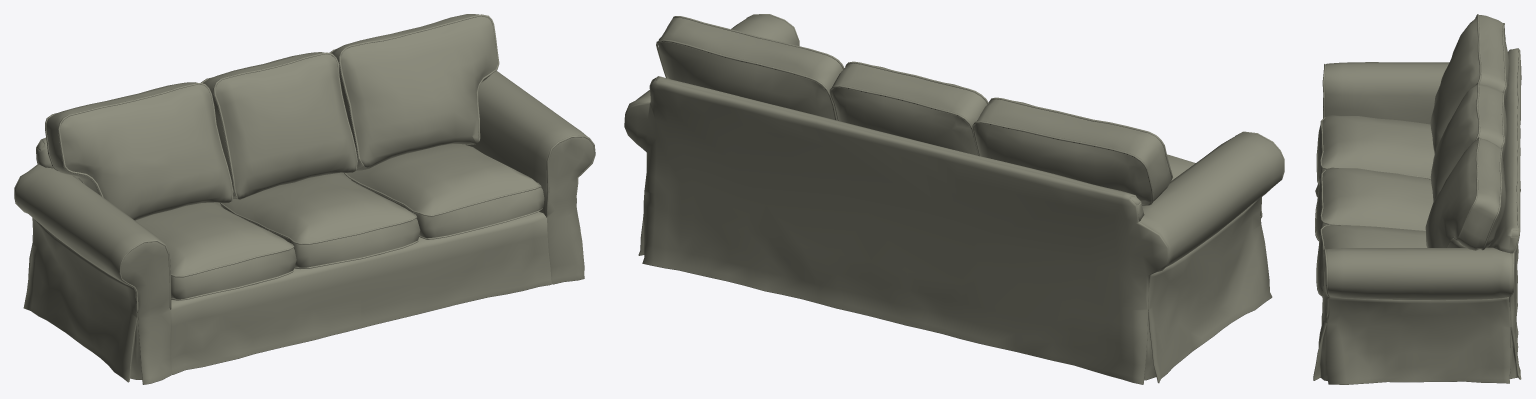
Rendered from 05 - EKTORP 3-seat sofa - Hakebo grey-green.glb.
3 renders of one model, left to right at view 1: azimuth 30°, elevation 25°; view 2: azimuth 150°, elevation 25°; view 3: azimuth 270°, elevation 25°, orthographic. The views are drawn at different scales.
Parts seen in each view (by area): view 1: 39509002_3_seat_sofa:1; view 2: 39509002_3_seat_sofa:1; view 3: 39509002_3_seat_sofa:1.
Part boxes in pixels (left/top/right/bottom): 39509002_3_seat_sofa:1: left=14, top=14, right=595, bottom=384; 39509002_3_seat_sofa:1: left=624, top=14, right=1284, bottom=384; 39509002_3_seat_sofa:1: left=1313, top=14, right=1521, bottom=384.
Size of the model in its own units: 2.19 by 0.8882 by 0.9167.
1 material, 1 textured.
